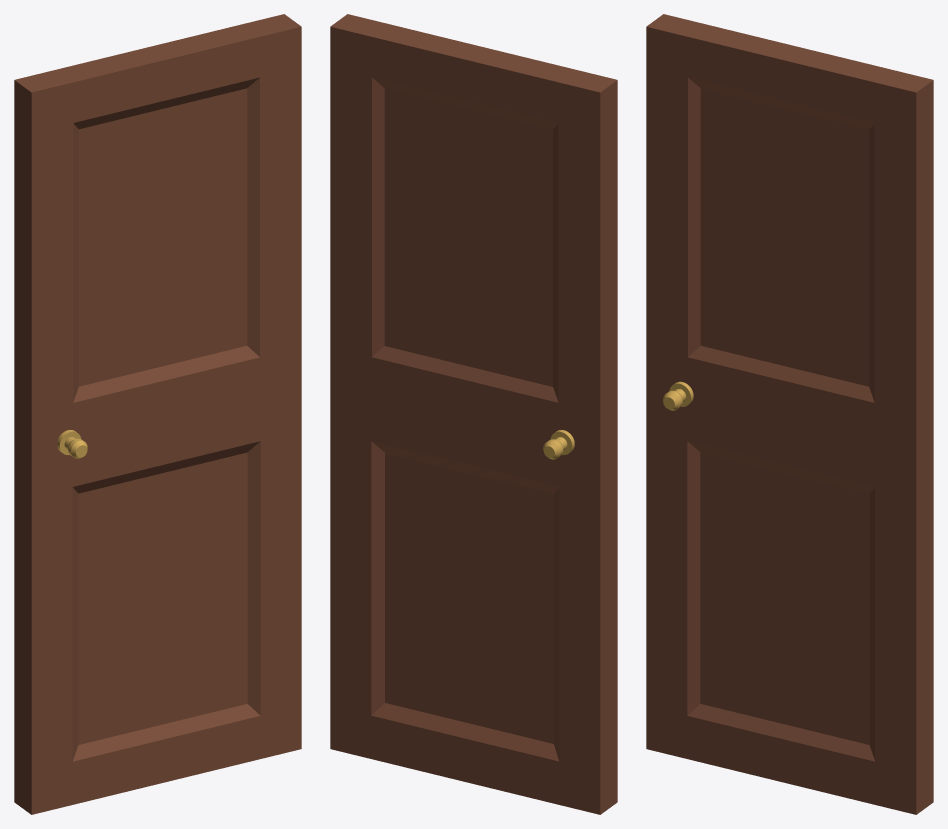
The model's file is LowPoly_Door01.fbx.
3 renders of one model, left to right at view 1: azimuth 30°, elevation 25°; view 2: azimuth 150°, elevation 25°; view 3: azimuth 330°, elevation 25°, orthographic.
Parts seen in each view (by area): view 1: Door, Handle; view 2: Door, Handle; view 3: Door, Handle.
Boxes of the visible parts, x1,y1,x2,y2 form: Door: [14, 14, 301, 814]; Handle: [57, 430, 87, 458]; Door: [330, 14, 617, 814]; Handle: [543, 430, 574, 459]; Door: [646, 14, 933, 814]; Handle: [663, 381, 693, 410].
Bounding box in the file's own units: 90 × 230 × 26.29.
